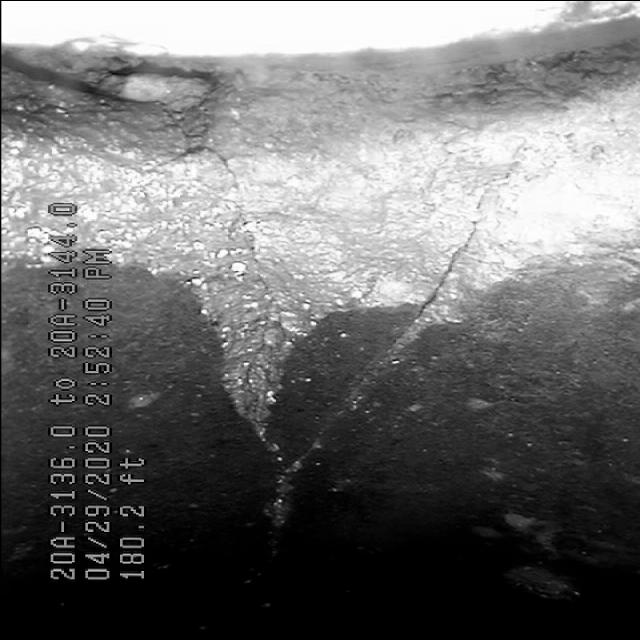Crack: (182, 101, 512, 522)
